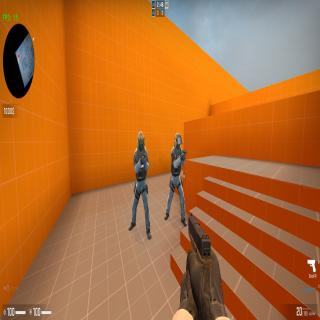CT-Body: (130, 131, 152, 240), (165, 133, 188, 228)
CT-Head: (137, 131, 145, 153), (174, 132, 182, 151)
